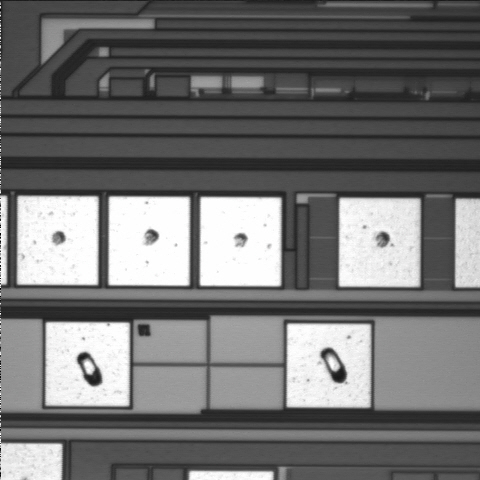pad: (17, 196, 98, 285), (109, 197, 190, 286), (200, 197, 281, 286), (339, 198, 420, 287), (46, 322, 130, 406), (287, 324, 371, 407)
